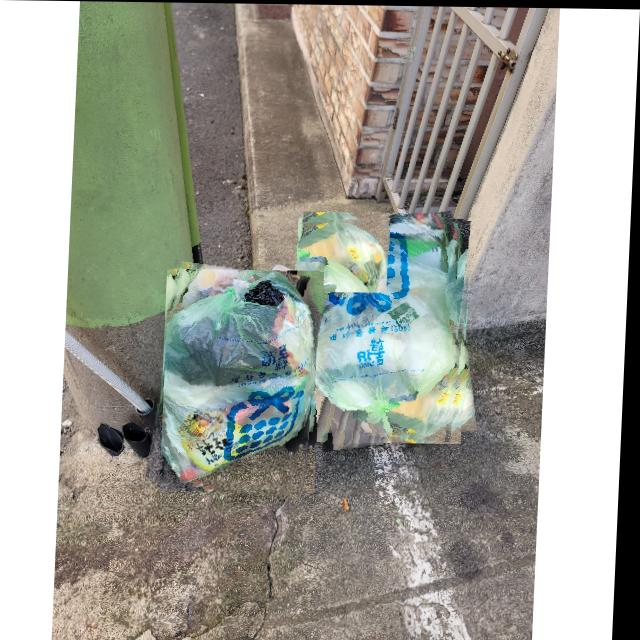general_trashbag: (304, 213, 464, 437), (166, 270, 319, 484), (300, 220, 390, 291)
